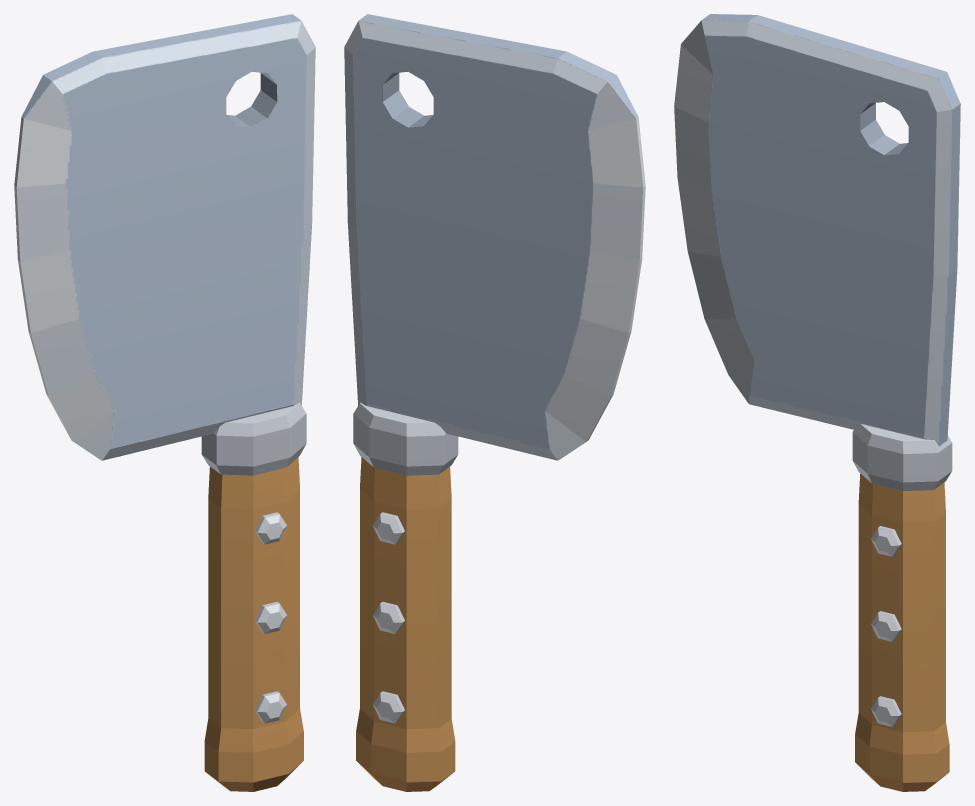
The model's file is Cleaver.fbx.
3 renders of one model, left to right at view 1: azimuth 30°, elevation 25°; view 2: azimuth 150°, elevation 25°; view 3: azimuth 330°, elevation 25°, orthographic. The views are drawn at different scales.
Visible parts, largest first — view 1: Cleaver; view 2: Cleaver; view 3: Cleaver.
Boxes of the visible parts, x1,y1,x2,y2 form: Cleaver: (14, 14, 315, 791); Cleaver: (344, 14, 645, 791); Cleaver: (674, 14, 960, 791).
Size of the model in its own units: 83 by 205 by 19.95.
1 material, 1 textured.
